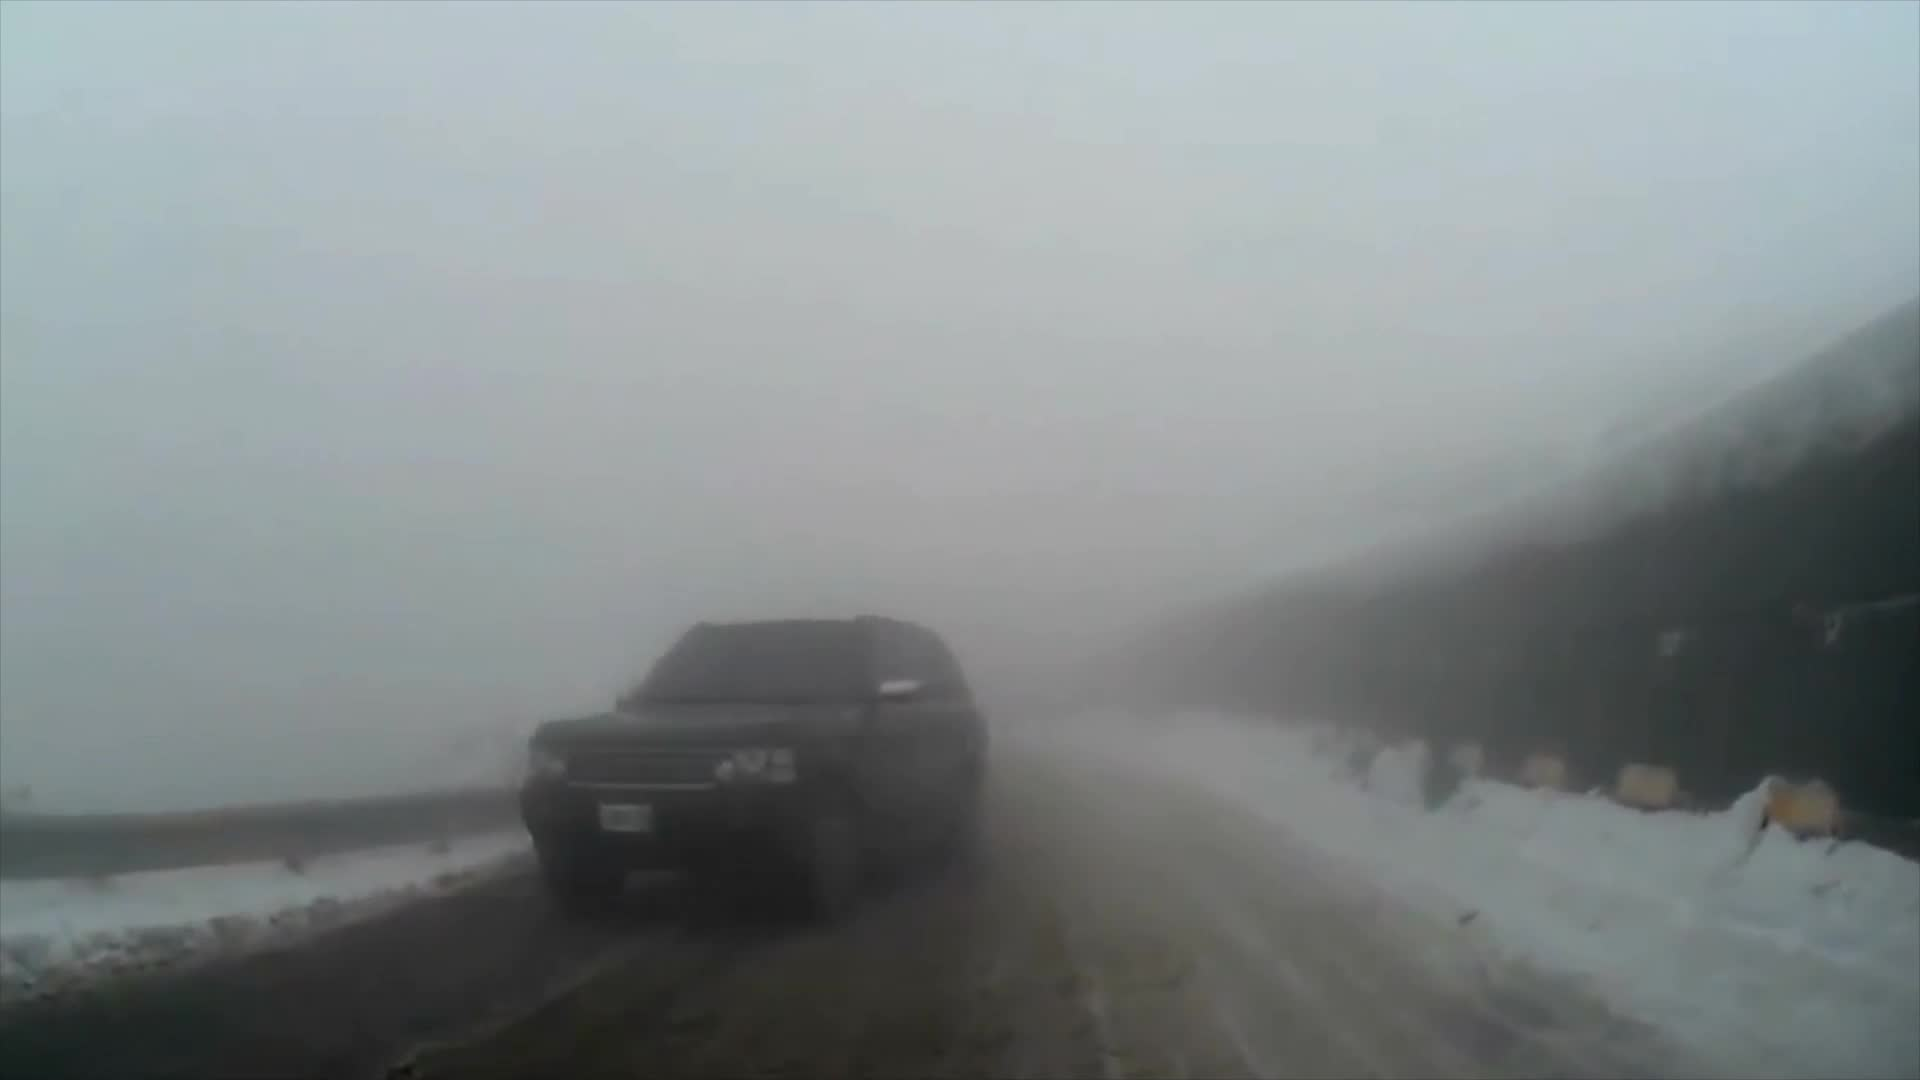vehicle: (522, 612, 990, 928)
